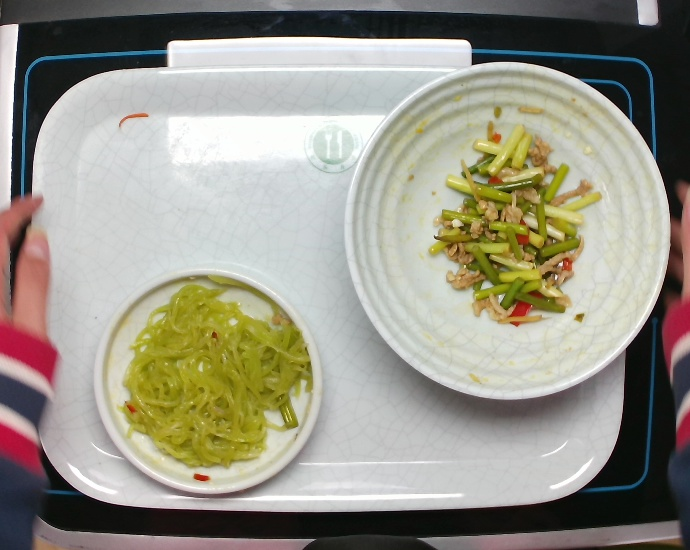JYsf-Da_Tang_Wan: (339, 57, 675, 399)
JYsf-Xiao_Yuan_Pan: (91, 265, 322, 497)
